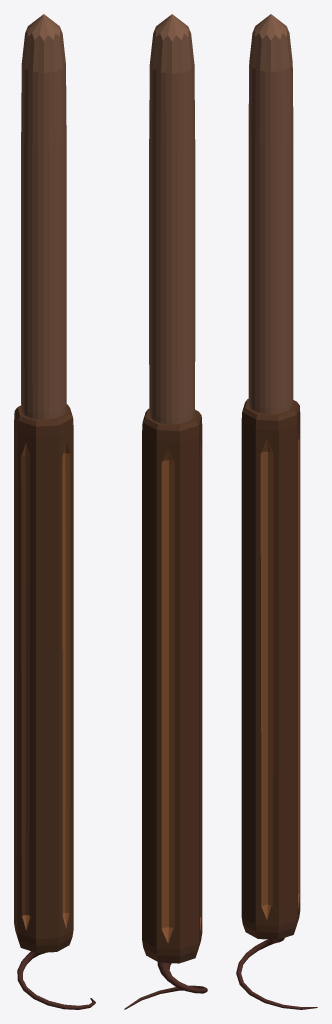
Rendered from Wand 519.glb.
The picture shows the model from 3 angles, left to right: view 1: azimuth 30°, elevation 25°; view 2: azimuth 150°, elevation 25°; view 3: azimuth 330°, elevation 25°; orthographic projection. The views are drawn at different scales.
Parts seen in each view (by area): view 1: GeneratedWand; view 2: GeneratedWand; view 3: GeneratedWand.
Part boxes in pixels (x1,y1,x2,y2): GeneratedWand: (14,14,95,1009); GeneratedWand: (124,14,207,1009); GeneratedWand: (236,14,317,1009).
Size of the model in its own units: 0.0402 by 0.5161 by 0.0347.
